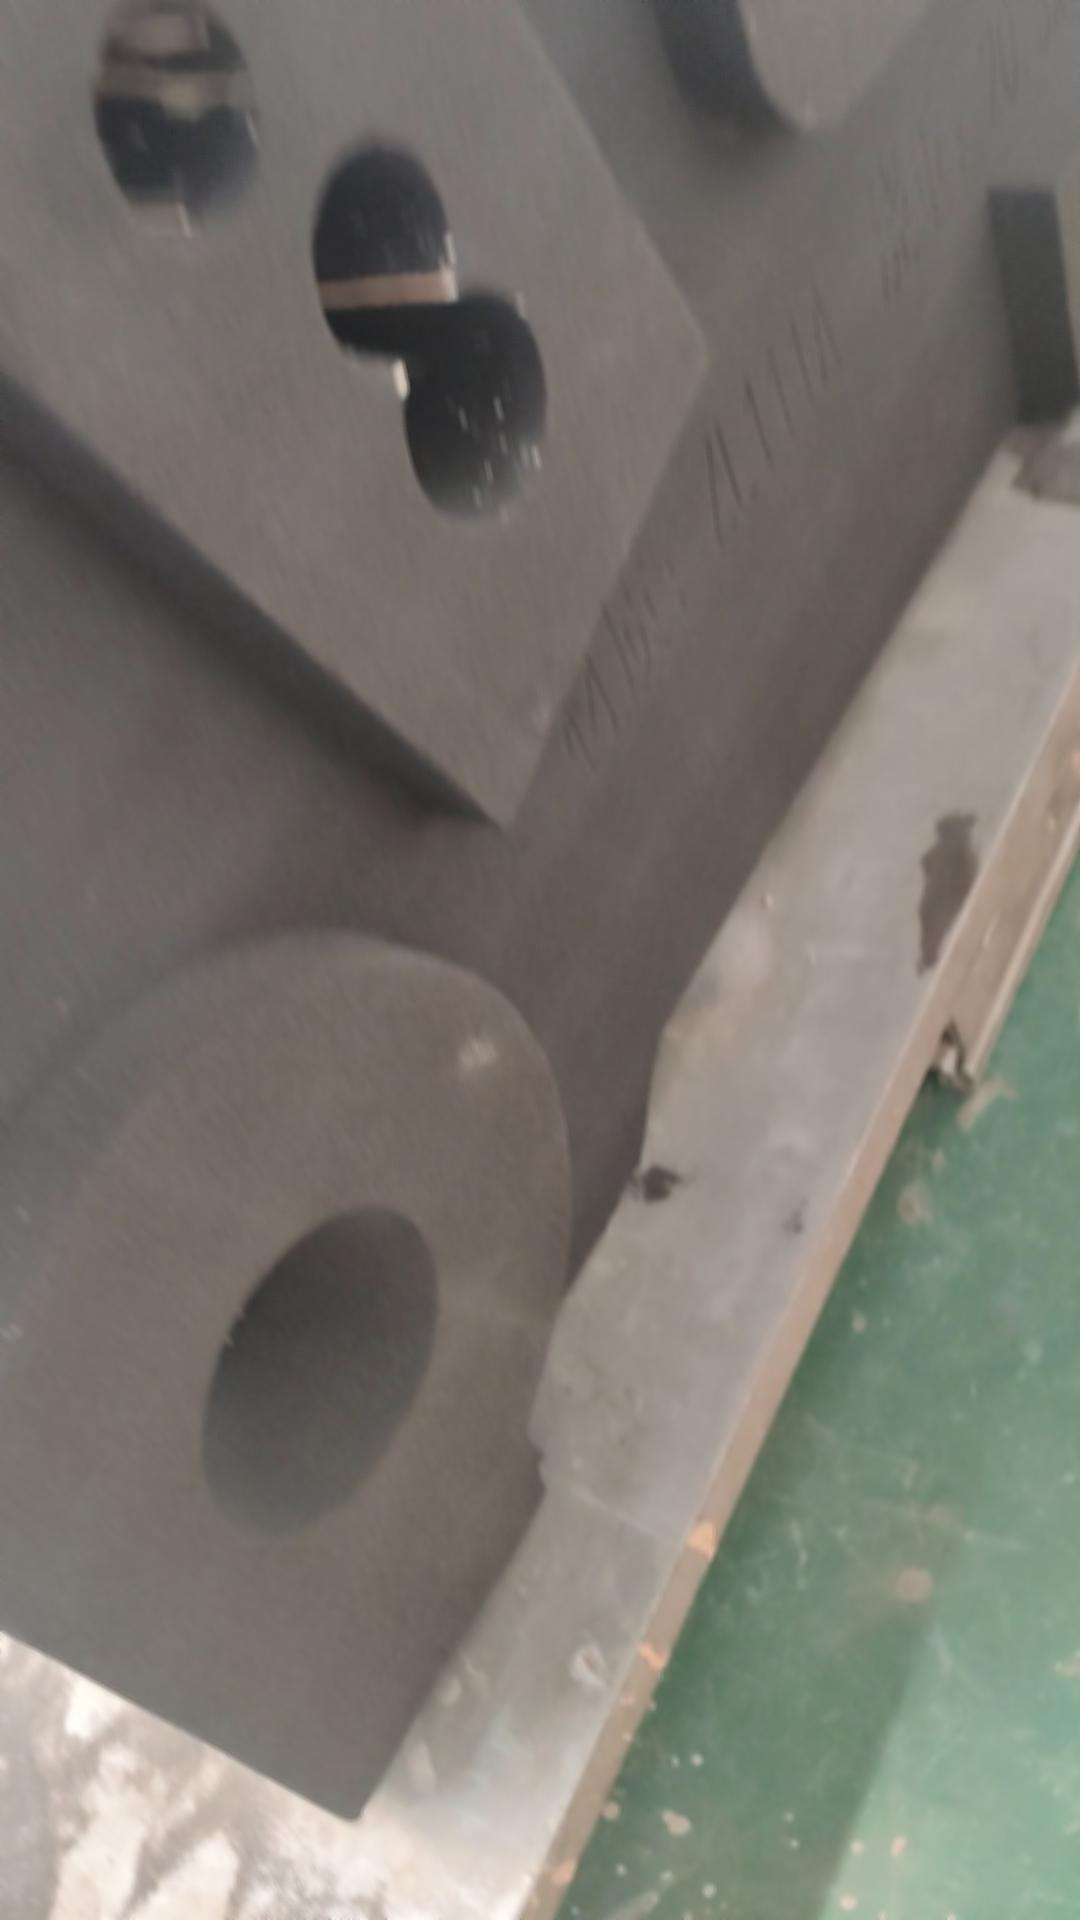pouring hole: (199, 1208, 440, 1538)
